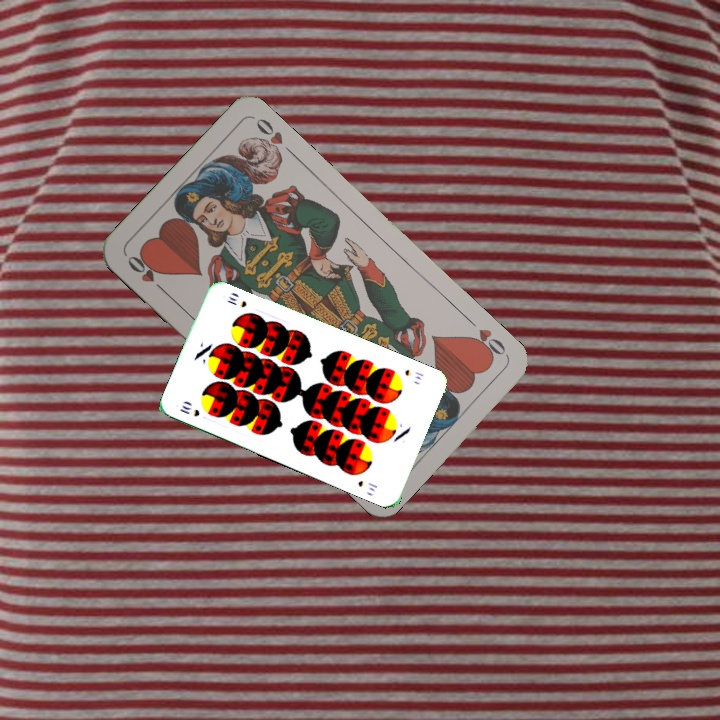HO: (462, 313, 509, 363), (123, 250, 170, 297)
S10: (176, 401, 202, 419), (400, 365, 426, 383)
